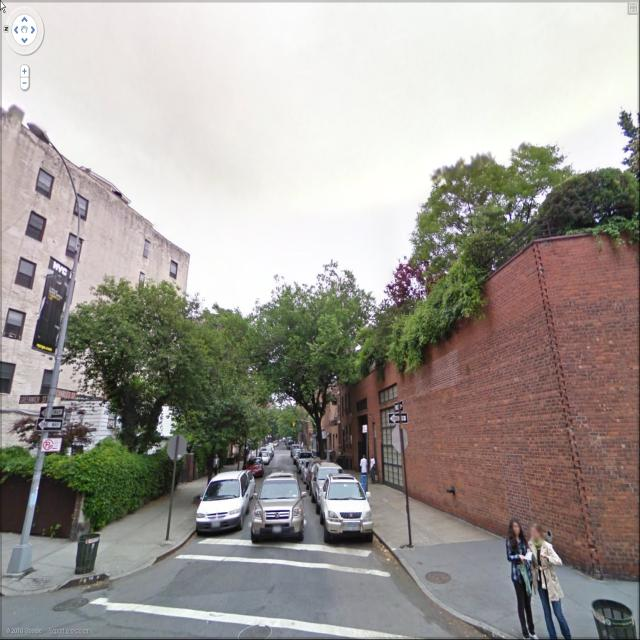b_2: (303, 147, 639, 590), (1, 104, 190, 458)
